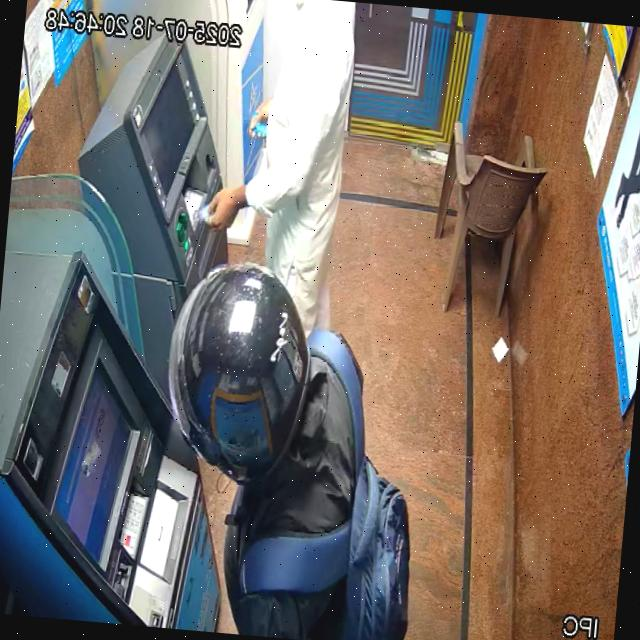helmet: (168, 261, 310, 486)
